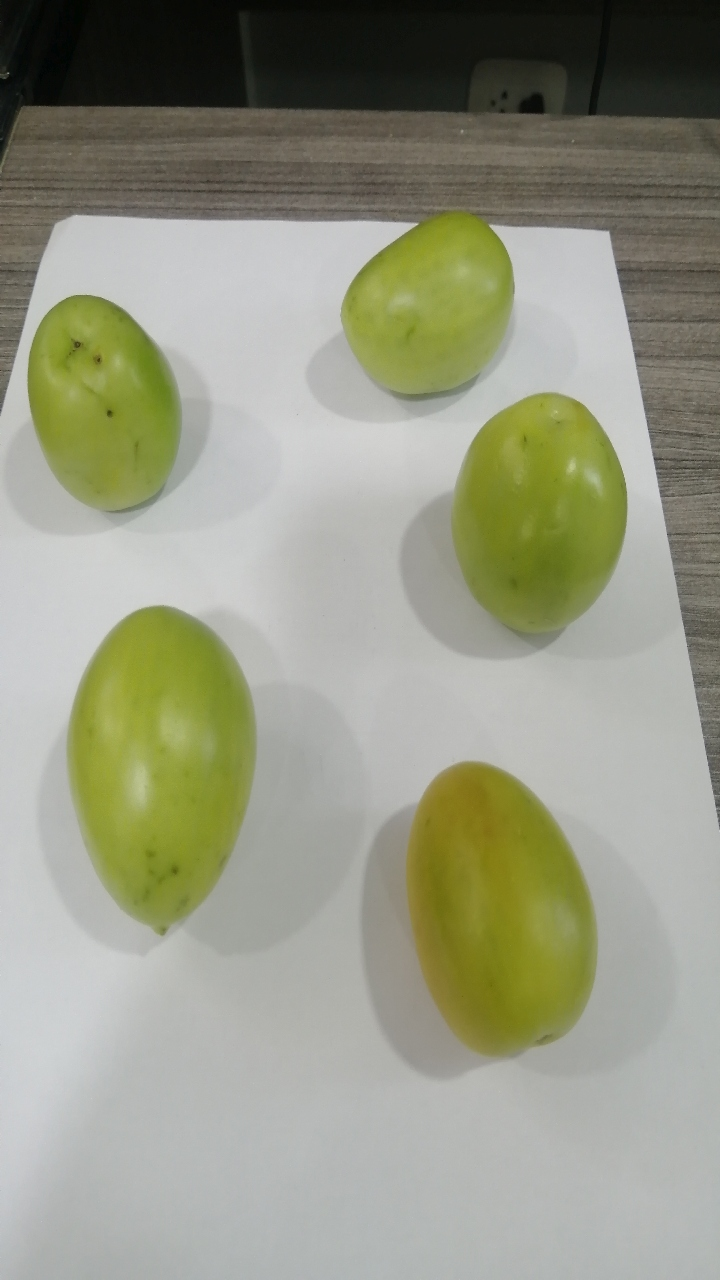tomateVerde: (46, 589, 284, 957), (389, 735, 621, 1080), (428, 388, 640, 652), (21, 274, 204, 531), (318, 195, 541, 402)
